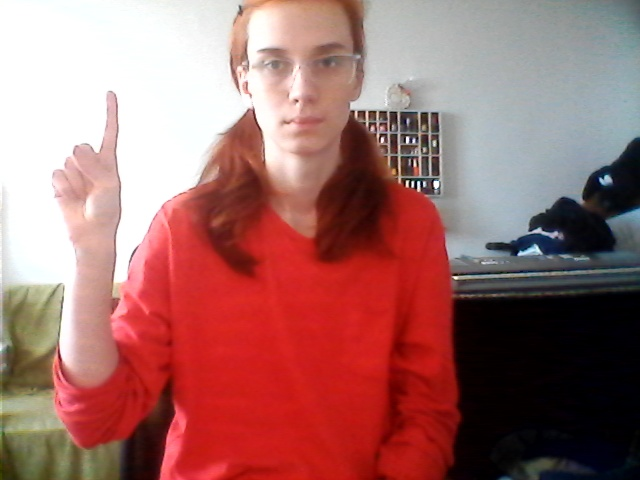i: (16, 81, 164, 254)
